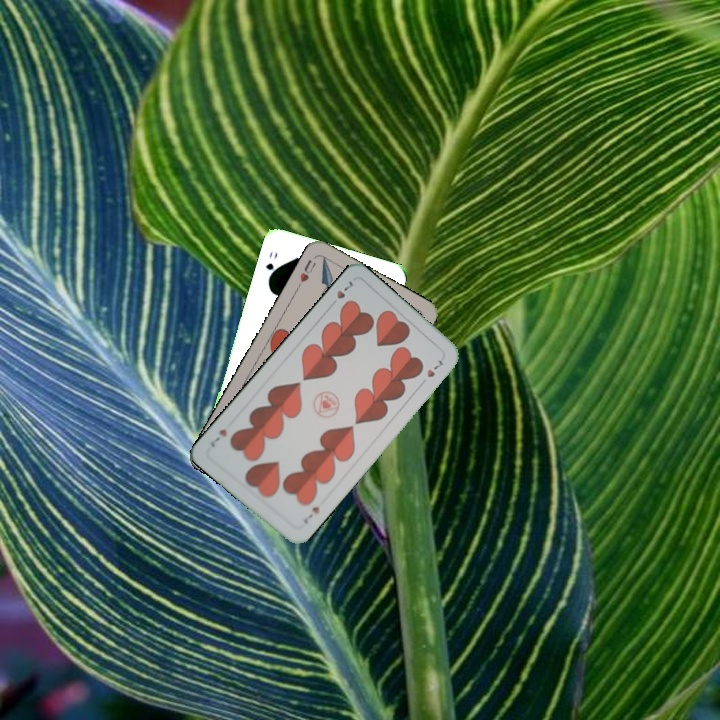GO: (261, 248, 280, 283)
H7: (326, 276, 357, 310), (300, 502, 322, 527)
HU: (293, 255, 319, 291)
